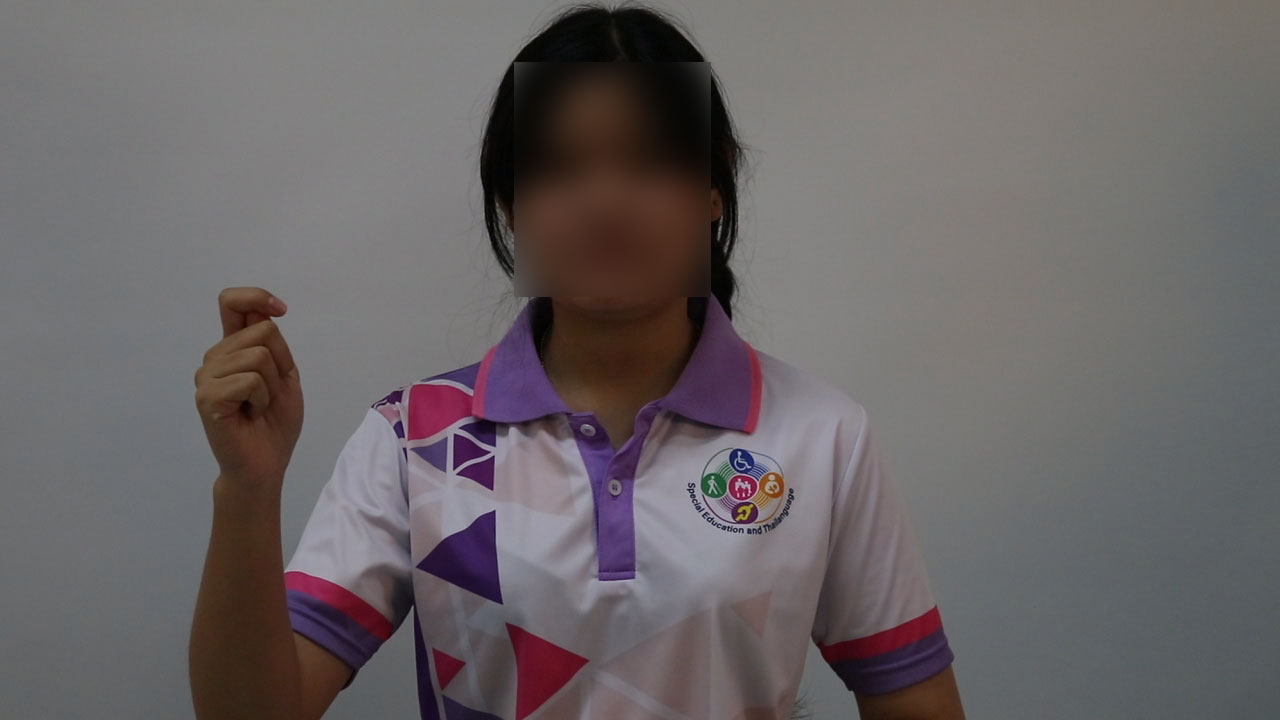or: (186, 282, 314, 495)
